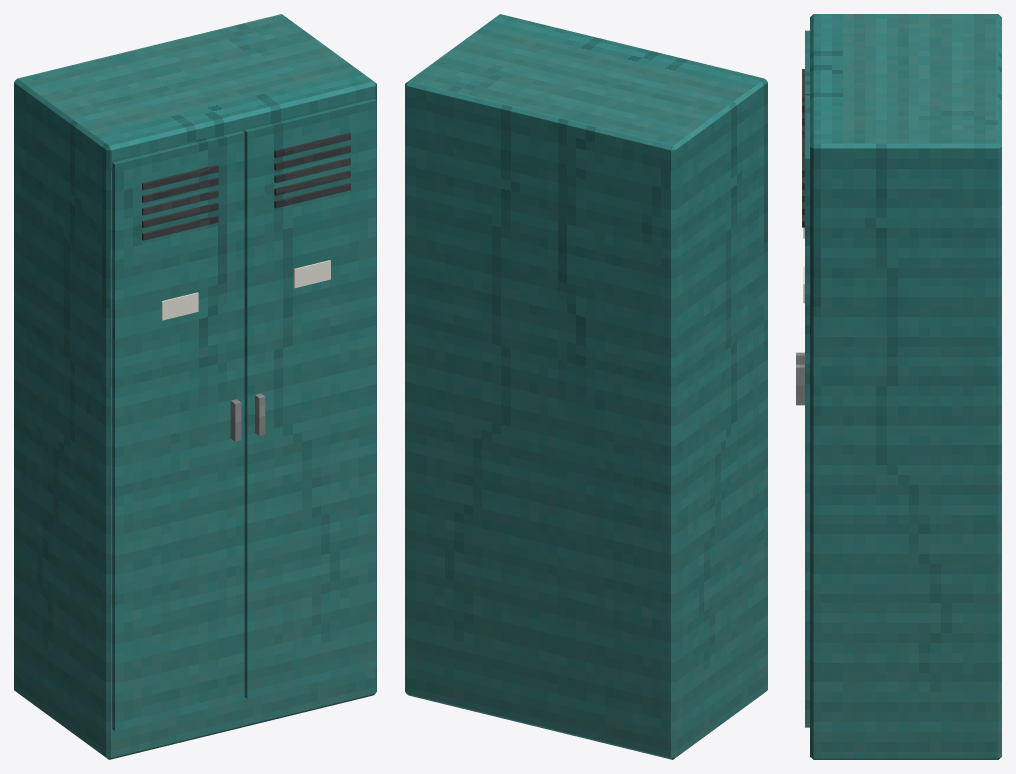
Rendered from locker.glb.
The picture shows the model from 3 angles, left to right: view 1: azimuth 30°, elevation 25°; view 2: azimuth 150°, elevation 25°; view 3: azimuth 270°, elevation 25°; orthographic projection.
Parts seen in each view (by area): view 1: body; view 2: body; view 3: body.
Part boxes in pixels (x1=…): body: x1=14, y1=14, x2=376, y2=759; body: x1=405, y1=14, x2=767, y2=759; body: x1=796, y1=14, x2=1001, y2=759.
Size of the model in its own units: 0.9 by 1.95 by 0.59.
Materials: 4 (3 with a texture image).
